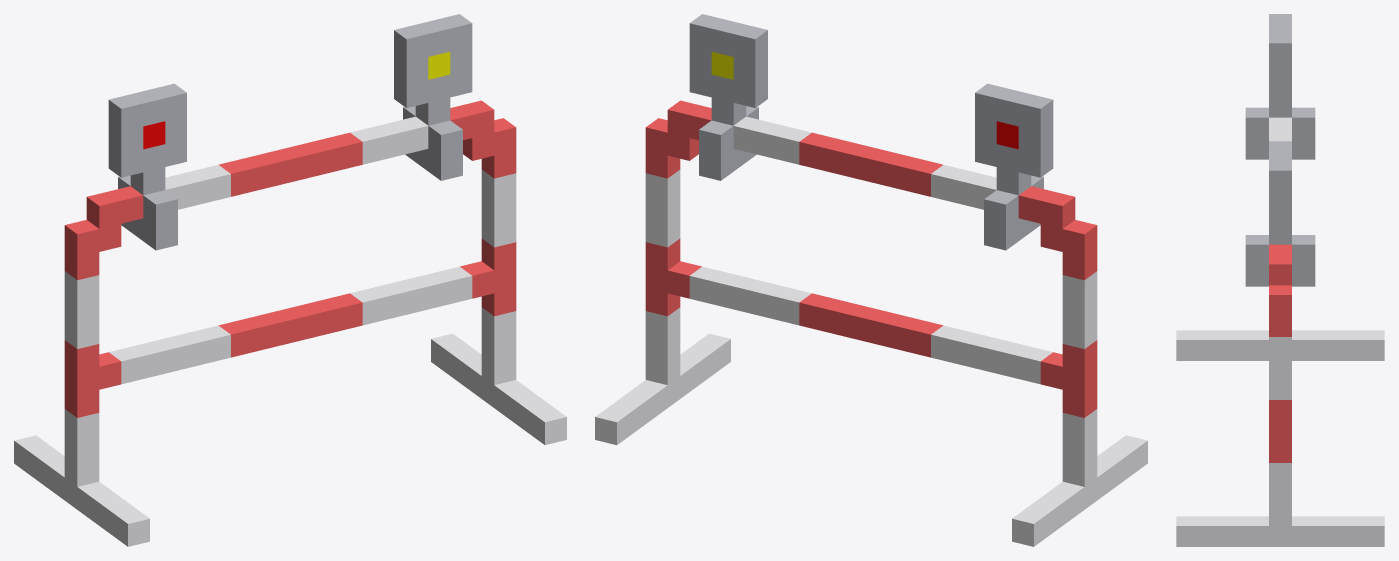
File: Barricade.fbx
The picture shows the model from 3 angles, left to right: view 1: azimuth 30°, elevation 25°; view 2: azimuth 150°, elevation 25°; view 3: azimuth 270°, elevation 25°; orthographic projection. The views are drawn at different scales.
Parts seen in each view (by area): view 1: Barricade, Light; view 2: Barricade, Light; view 3: Barricade.
Boxes of the visible parts, left/top/right/bottom form: Barricade: left=14, top=14, right=566, bottom=546; Light: left=143, top=51, right=450, bottom=149; Barricade: left=595, top=14, right=1147, bottom=546; Light: left=711, top=51, right=1018, bottom=149; Barricade: left=1176, top=14, right=1384, bottom=546.
Bounding box in the file's own units: 1.53 × 1.3 × 0.6892.
Materials: 2 (2 with a texture image).
